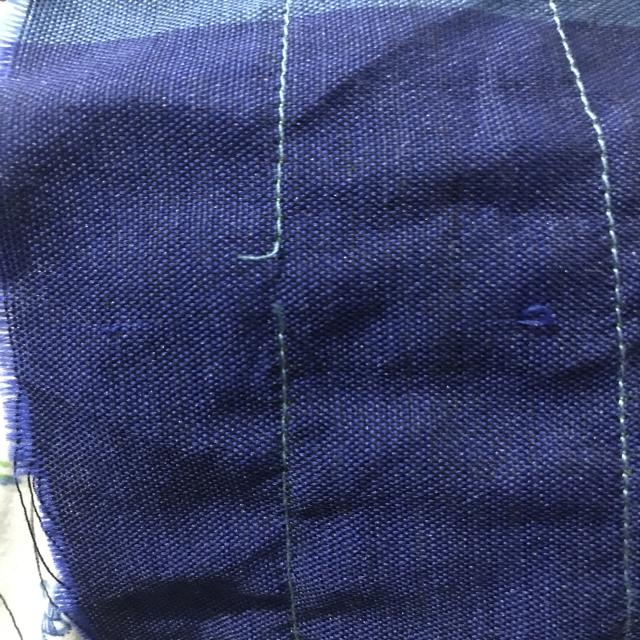broken: (225, 228, 322, 340)
good: (253, 62, 301, 160)
